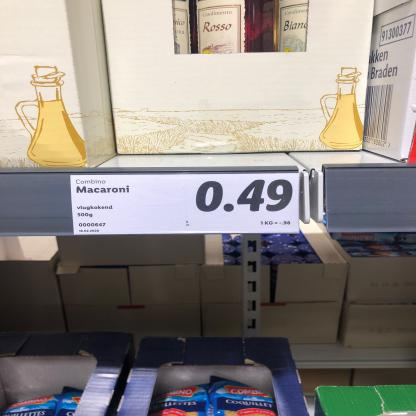prtg: (71, 175, 301, 236)
